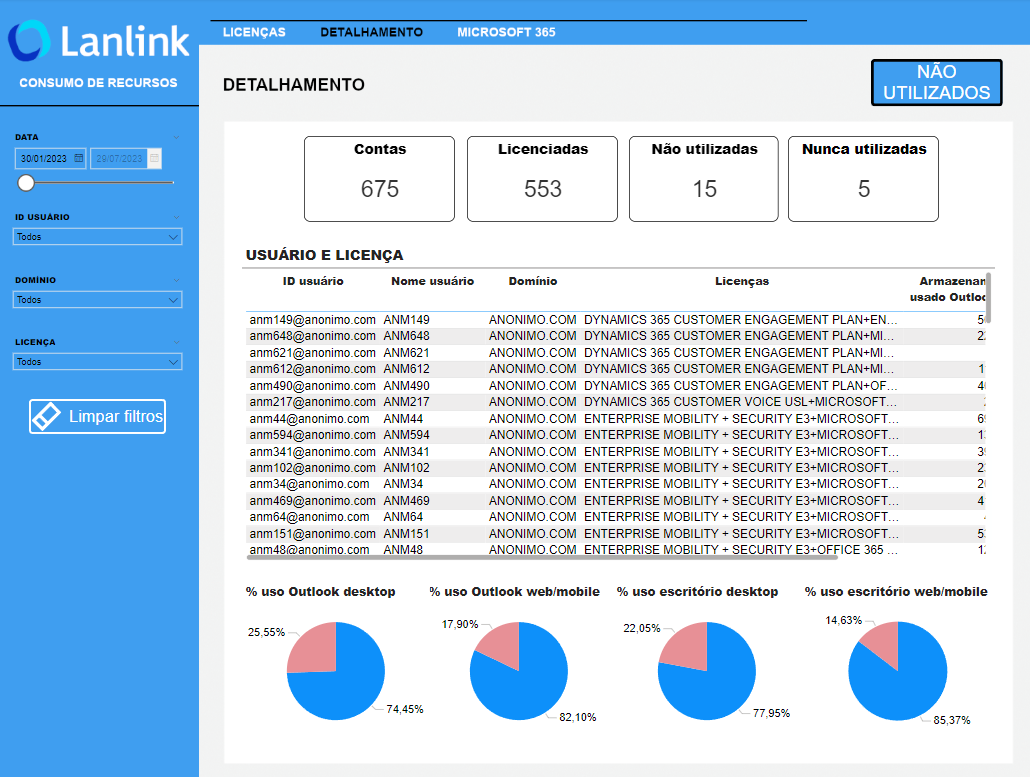

The page's visual inventory and layout, read from the dashboard file:
{"tool":"powerbi","page":{"name":"DETALHAMENTO","canvas":[1508,1184],"ordinal":1},"visuals":[{"type":"pieChart","title":"% uso escritório web/mobile","fields":{"Category":["fatOffice365.Escritório web/mobile"],"Y":["fatOffice365.Qtd. contas licenciadas"]},"box":[1170.9,853.4,282.5,233],"z":5000},{"type":"pieChart","title":"% uso escritório desktop","fields":{"Y":["fatOffice365.Qtd. contas licenciadas"],"Category":["fatOffice365.Escritório desktop"]},"box":[897.1,853.4,273.8,233],"z":6000},{"type":"pieChart","title":"% uso Outlook web/mobile","fields":{"Category":["fatOffice365.Outlook web/mobile"],"Y":["fatOffice365.Qtd. contas licenciadas"]},"box":[623.3,853.4,273.8,233],"z":7000},{"type":"pieChart","title":"% uso Outlook desktop","fields":{"Y":["fatOffice365.Qtd. contas licenciadas"],"Category":["fatOffice365.Outlook desktop"]},"box":[355.3,853.4,273.8,233],"z":8000},{"type":"tableEx","title":"USUÁRIO E LICENÇA","fields":{"Values":["dimUsuario.ID usuário1","dimUsuario.Nome usuário","dimUsuario.Domínio","fatOffice365.Licenças","fatOffice365.Armazenamento usado Outlook (MB)","fatOffice365.Armazenamento usado OneDrive (MB)"]},"box":[355.6,360,1097.8,464.4],"z":9000},{"type":"actionButton","title":"Button mostrar todos","box":[1273.3,88.9,192.2,68.9],"z":11000},{"type":"advanceCardE03760C5AB684758B56AA29F9E6C257B","title":"Nunca utilizadas","fields":{"mainMeasure":["fatOffice365.Qtd. contas licenciadas nunca usadas"]},"box":[1151.2,201.2,220,125],"z":12000},{"type":"advanceCardE03760C5AB684758B56AA29F9E6C257B","title":"Não utilizadas","fields":{"mainMeasure":["fatOffice365.Qtd. contas licenciadas nunca usadas no período"]},"box":[920,201.7,218.3,125],"z":13000},{"type":"advanceCardE03760C5AB684758B56AA29F9E6C257B","title":"Licenciadas","fields":{"mainMeasure":["fatOffice365.Qtd. contas licenciadas"]},"box":[683.3,201.7,220,125],"z":14000},{"type":"advanceCardE03760C5AB684758B56AA29F9E6C257B","title":"Contas","fields":{"mainMeasure":["fatOffice365.Qtd. funcionários"]},"box":[446.7,201.7,220,125],"z":15000},{"type":"slicer","title":"Slicer licença","fields":{"Values":["dimLicenca.Licença"]},"box":[12,488,267,81],"z":16000},{"type":"slicer","title":"Slicer domínio","fields":{"Values":["dimUsuario.Domínio"]},"box":[12.2,397.8,266.7,81.1],"z":17000},{"type":"slicer","title":"Slicer id usuário","fields":{"Values":["dimUsuario.ID usuário1"]},"box":[12.2,305.6,266.7,81.1],"z":18000},{"type":"slicer","title":"Slicer data","fields":{"Values":["dimCalendario.Data"]},"box":[12,189.1,266.4,105.5],"z":19000},{"type":"actionButton","title":"Button limpar filtros","box":[45.2,584.7,199.8,51],"z":20000},{"type":"actionButton","title":"Button microsoft 365","box":[659.7,36.7,160,32],"z":22000},{"type":"actionButton","title":"Button licenças","box":[321.3,37.3,106.7,32],"z":23000}]}

Visuals, with their boxes on the page's 1508x1184 design canvas (x1, y1, x2, y2). These are canvas units, not pixel positions in the 1030x777 screenshot, which may show the page scaled, cropped or inside an application window:
"% uso escritório web/mobile" pieChart: 1171:853:1453:1086
"% uso escritório desktop" pieChart: 897:853:1171:1086
"% uso Outlook web/mobile" pieChart: 623:853:897:1086
"% uso Outlook desktop" pieChart: 355:853:629:1086
"USUÁRIO E LICENÇA" tableEx: 356:360:1453:824
"Button mostrar todos" actionButton: 1273:89:1466:158
"Nunca utilizadas" advanceCardE03760C5AB684758B56AA29F9E6C257B: 1151:201:1371:326
"Não utilizadas" advanceCardE03760C5AB684758B56AA29F9E6C257B: 920:202:1138:327
"Licenciadas" advanceCardE03760C5AB684758B56AA29F9E6C257B: 683:202:903:327
"Contas" advanceCardE03760C5AB684758B56AA29F9E6C257B: 447:202:667:327
"Slicer licença" slicer: 12:488:279:569
"Slicer domínio" slicer: 12:398:279:479
"Slicer id usuário" slicer: 12:306:279:387
"Slicer data" slicer: 12:189:278:295
"Button limpar filtros" actionButton: 45:585:245:636
"Button microsoft 365" actionButton: 660:37:820:69
"Button licenças" actionButton: 321:37:428:69
